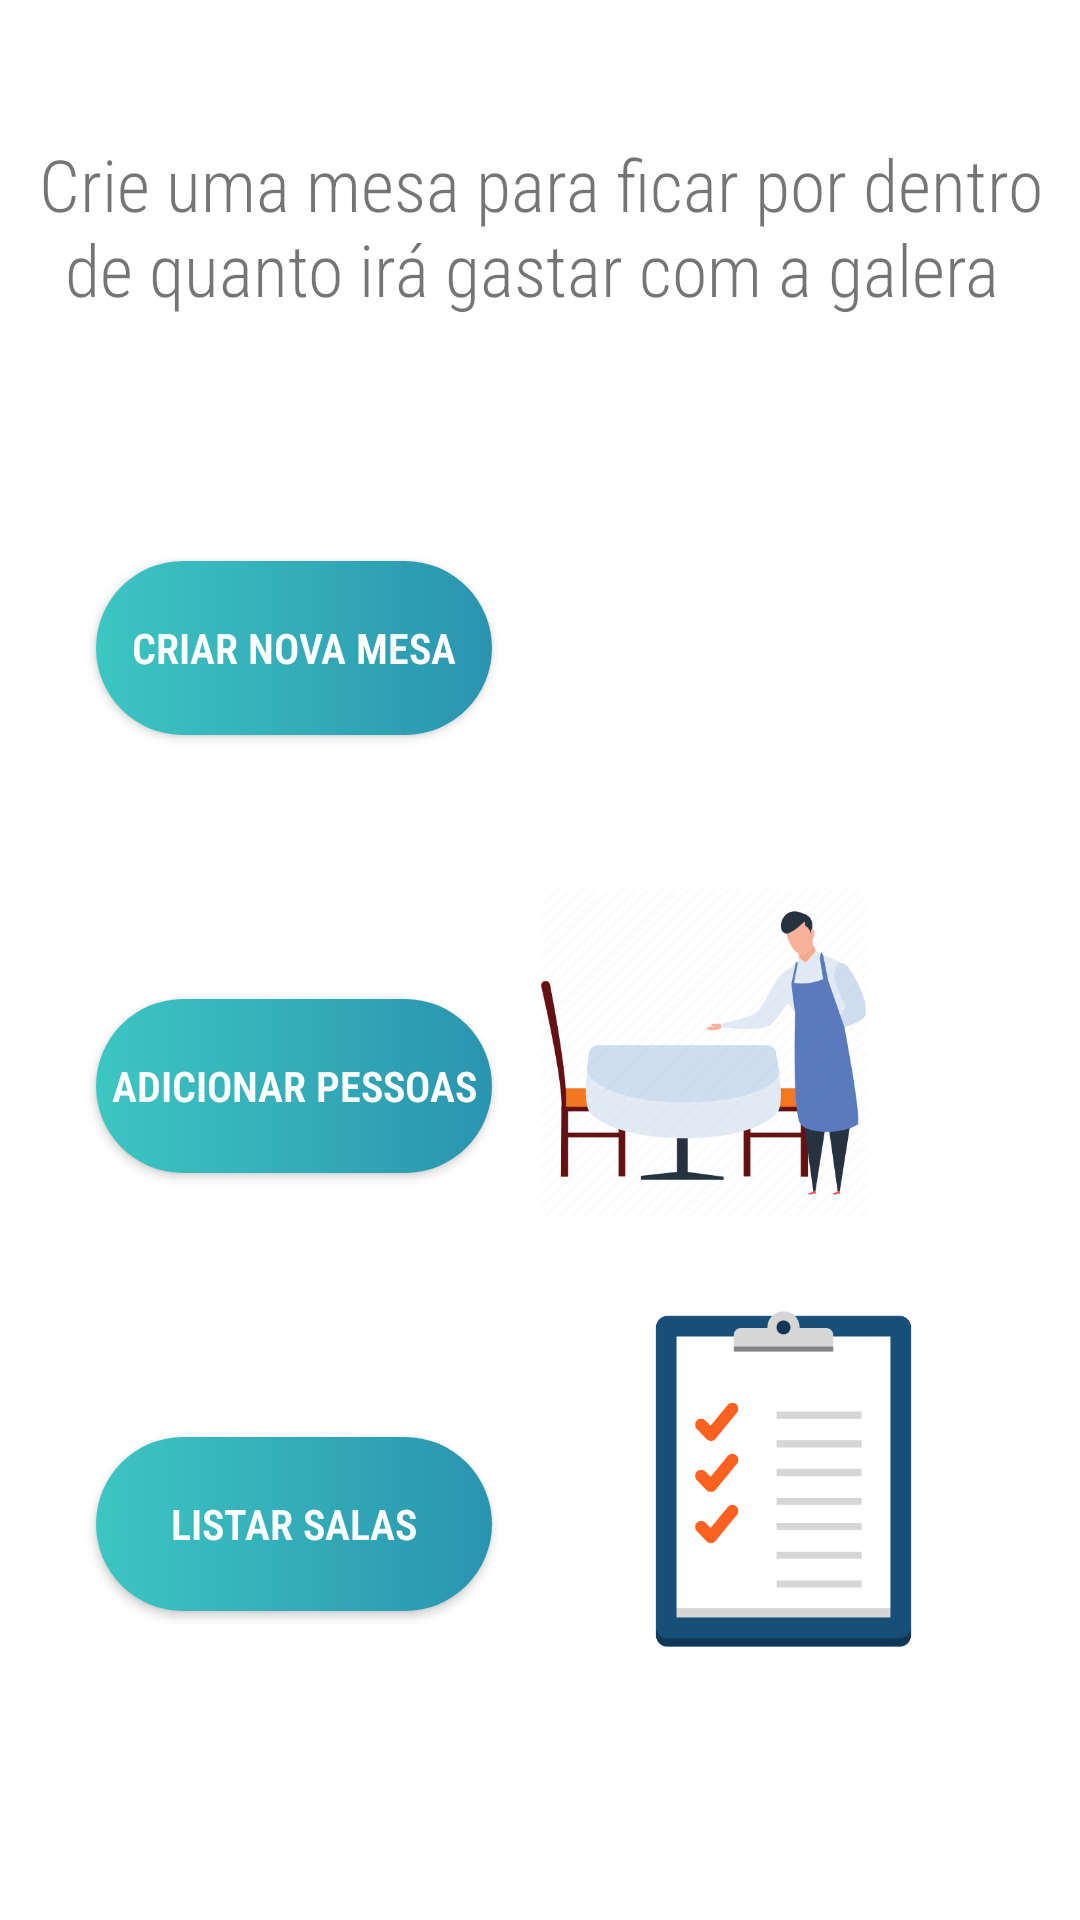

Icon bounding boxes for this 1080px x 1920px phone screenshot, format [x1,y1,x2,y2]:
addlisttwo: [655,1311,912,1647]
